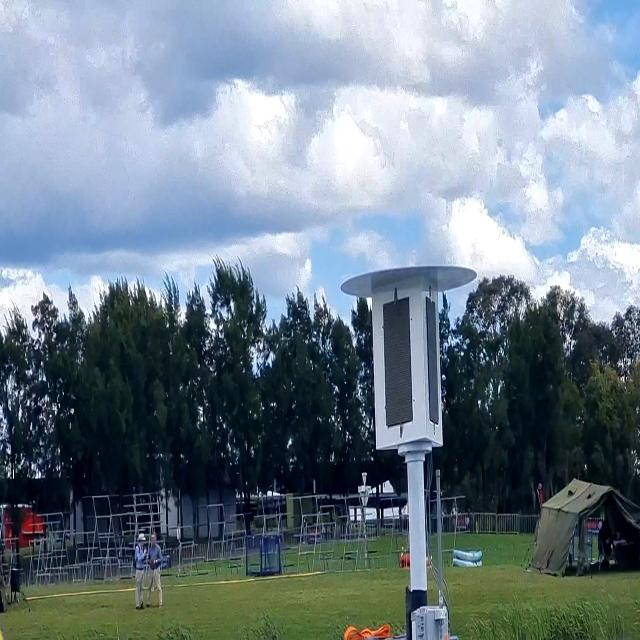led: (375, 290, 416, 430)
